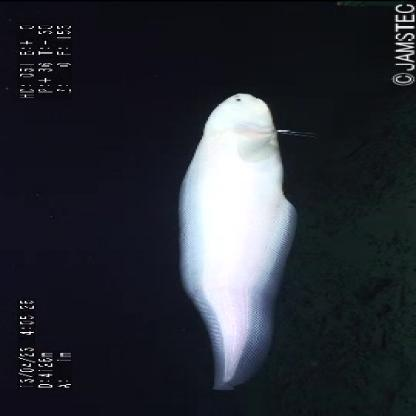Bio: (169, 90, 299, 394)
